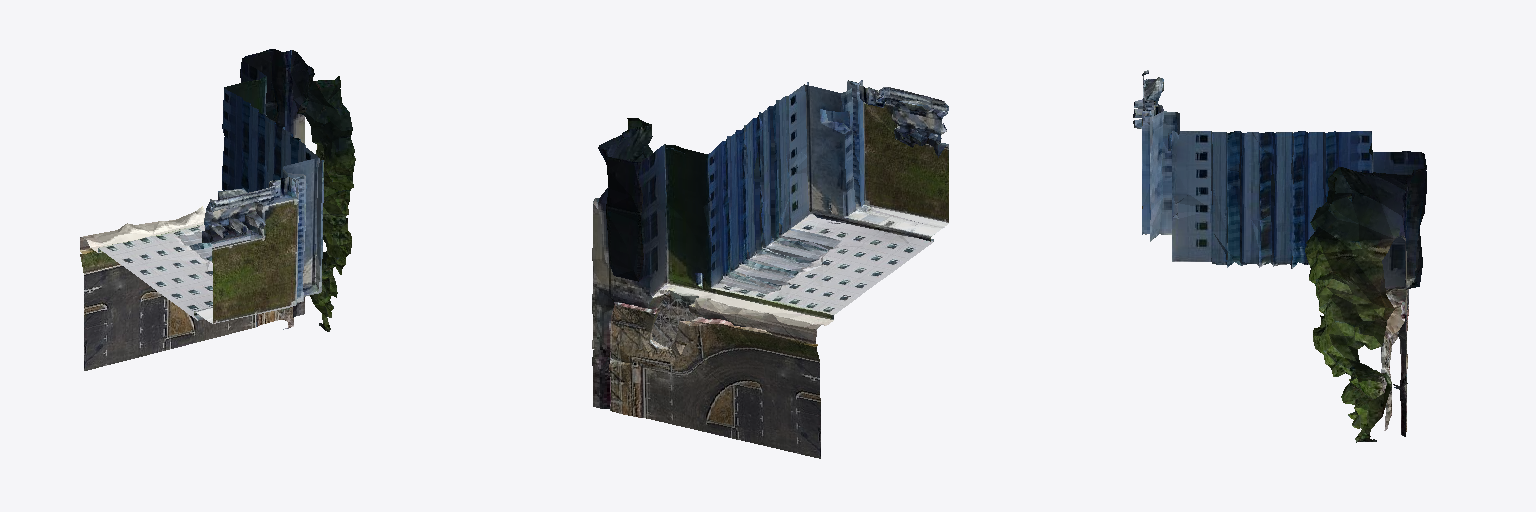
3 views of the same model, side by side, from view 1: azimuth 30°, elevation 25°; view 2: azimuth 150°, elevation 25°; view 3: azimuth 270°, elevation 25° (orthographic).
Parts seen in each view (by area): view 1: obj_0; view 2: obj_0; view 3: obj_0.
Boxes of the visible parts, <box> form: obj_0: <box>80,49,355,370</box>; obj_0: <box>592,80,948,458</box>; obj_0: <box>1133,70,1426,442</box>.
Bounding box in the file's own units: 40.15 × 45.06 × 45.57.
Materials: 1 (1 with a texture image).